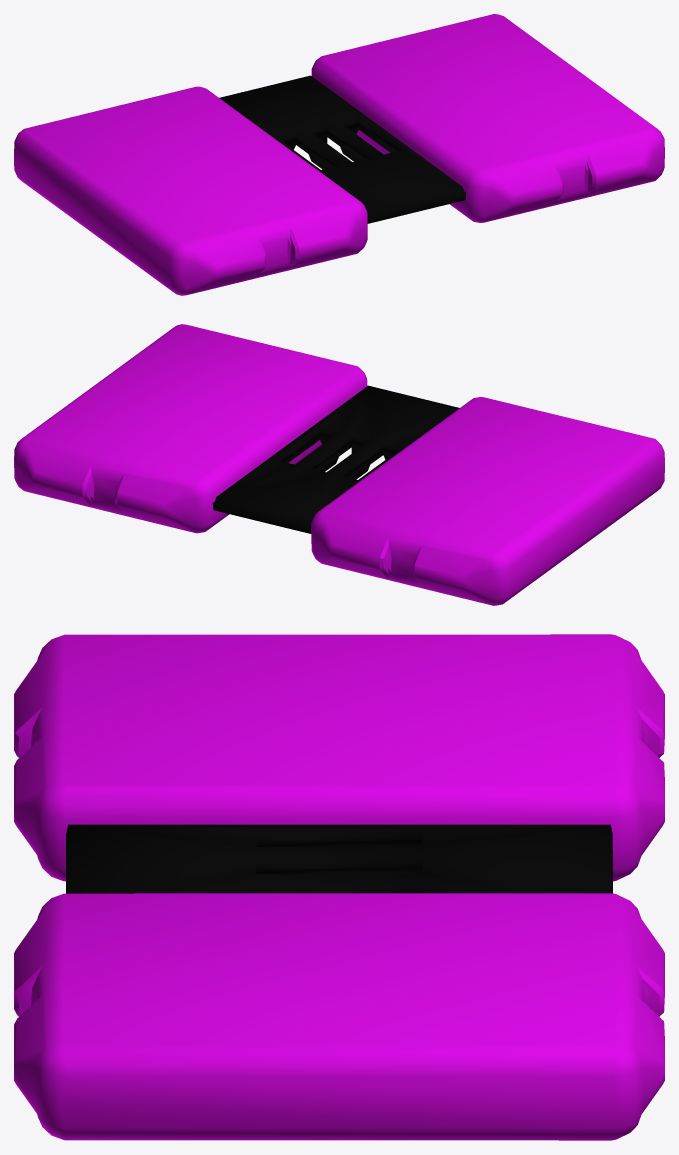
Rendered from butterfly_slime.gltf.
3 renders of one model, top to bottom at view 1: azimuth 30°, elevation 25°; view 2: azimuth 150°, elevation 25°; view 3: azimuth 270°, elevation 25°, orthographic. The views are drawn at different scales.
Parts seen in each view (by area): view 1: Butterfly_Tracker_Enclosure_simplified; view 2: Butterfly_Tracker_Enclosure_simplified; view 3: Butterfly_Tracker_Enclosure_simplified.
Boxes of the visible parts, <box> form: Butterfly_Tracker_Enclosure_simplified: <box>14,14,664,295</box>; Butterfly_Tracker_Enclosure_simplified: <box>14,324,664,605</box>; Butterfly_Tracker_Enclosure_simplified: <box>14,634,664,1140</box>.
Size of the model in its own units: 0.4296 by 0.0448 by 0.2745.
